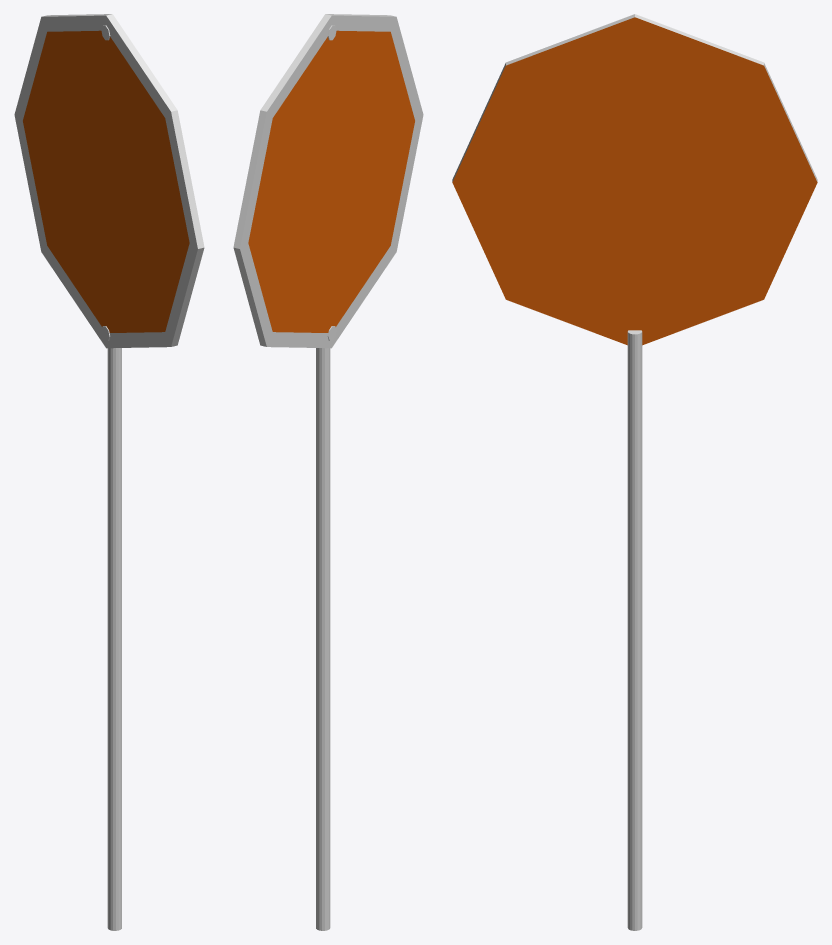
File: constructBarrier_sign.fbx
3 views of the same model, side by side, from view 1: azimuth 30°, elevation 25°; view 2: azimuth 150°, elevation 25°; view 3: azimuth 270°, elevation 25° (orthographic).
Visible parts, largest first — view 1: Circle, Circle.001, Cylinder; view 2: Circle, Circle.001, Cylinder; view 3: Circle, Cylinder, Circle.001.
Part boxes in pixels (left/top/right/bottom): Circle: left=23, top=30, right=189, bottom=332; Circle.001: left=14, top=14, right=204, bottom=348; Cylinder: left=107, top=348, right=121, bottom=930; Circle: left=248, top=30, right=414, bottom=332; Circle.001: left=233, top=14, right=423, bottom=348; Cylinder: left=316, top=348, right=330, bottom=930; Circle: left=452, top=17, right=817, bottom=345; Cylinder: left=627, top=330, right=642, bottom=930; Circle.001: left=452, top=14, right=817, bottom=181.
Size of the model in its own units: 9.93 by 550 by 200.
